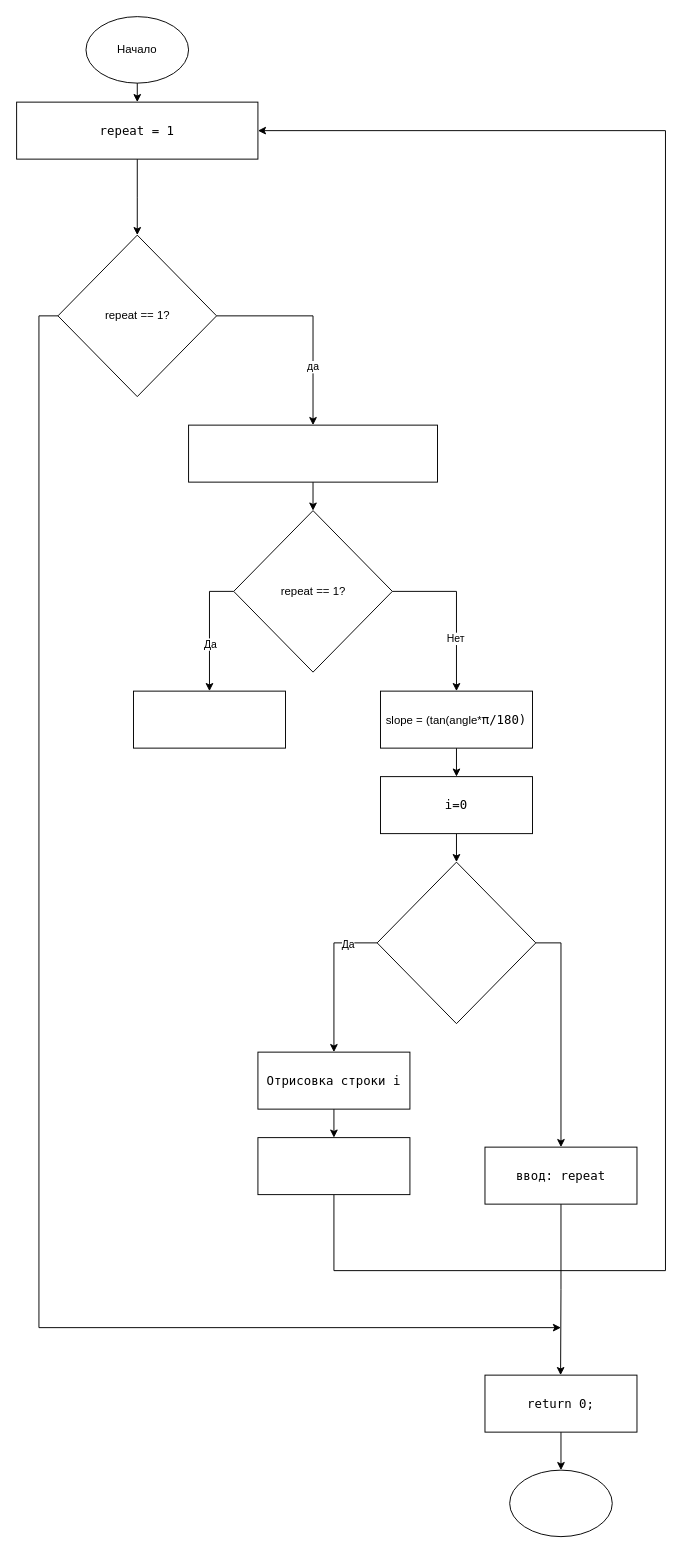
This 690x1553 diagram has some shape labels left out. Here are the shapes that lost their labels. From the top down, the centre of each, then its label:
[312,453]: Ввод: symbol, d1, d2, angle
[209,719]: Вывод: "Ошибка"
[456,942]: i < d1 ?
[333,1166]: i = i + 1
[560,1503]: Конец
